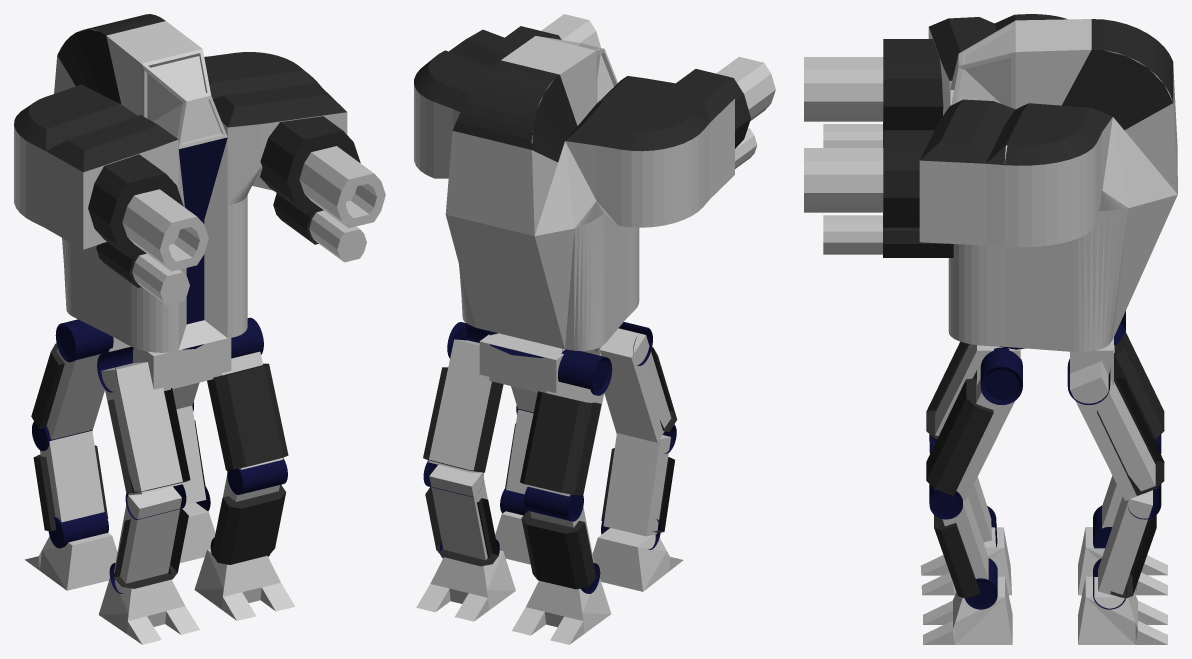
The model's file is ScountIdle.fbx.
The picture shows the model from 3 angles, left to right: view 1: azimuth 30°, elevation 25°; view 2: azimuth 150°, elevation 25°; view 3: azimuth 270°, elevation 25°; orthographic projection. The views are drawn at different scales.
Parts seen in each view (by area): view 1: Cube.027; view 2: Cube.027; view 3: Cube.027.
Part boxes in pixels (x1,y1,x2,y2): Cube.027: (14, 14, 385, 644); Cube.027: (414, 14, 775, 644); Cube.027: (804, 14, 1177, 644).
Size of the model in its own units: 127 by 234 by 139.
